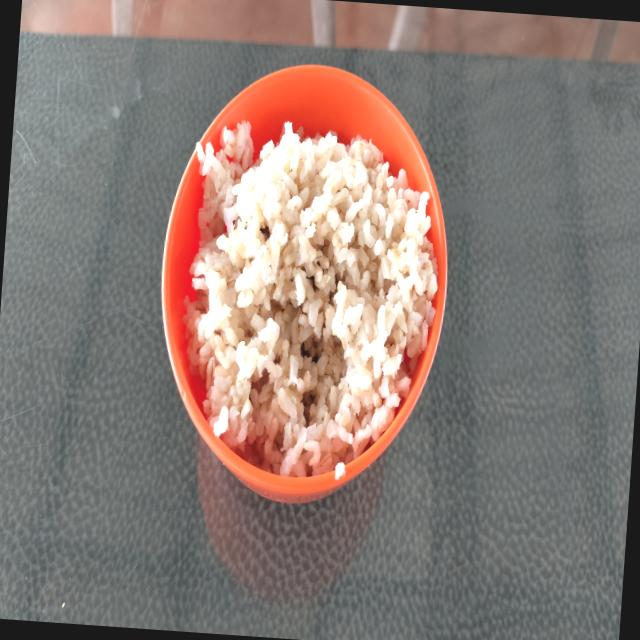brown-rice: (185, 120, 437, 476)
